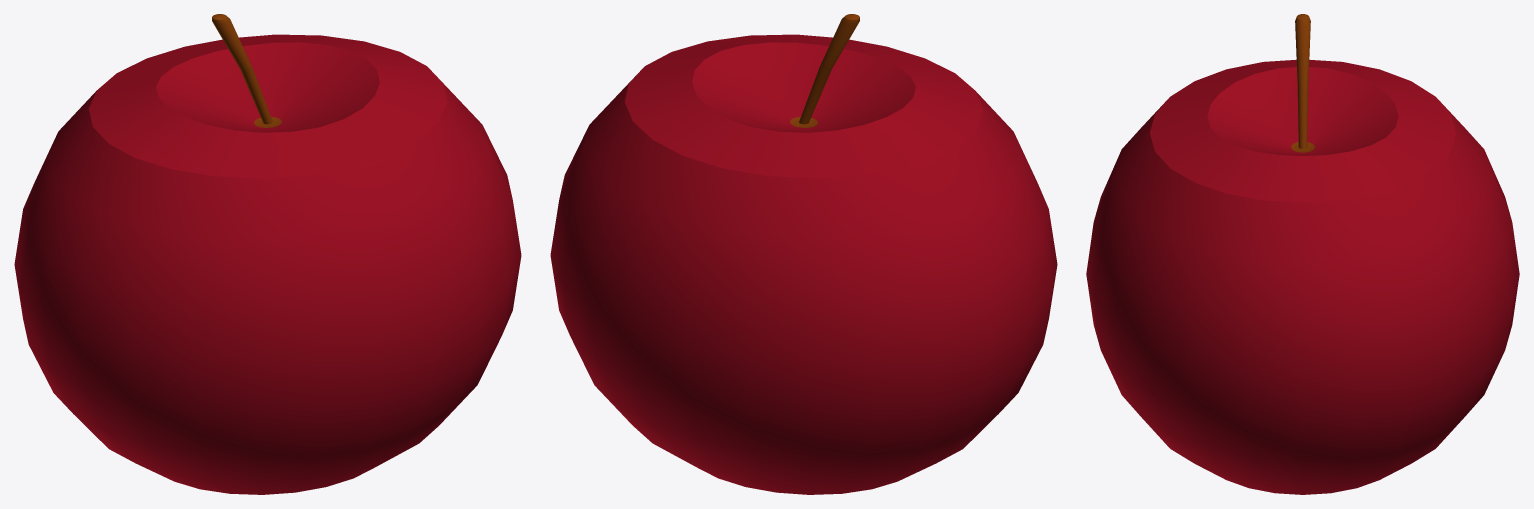
File: objectsdebouffe_1.fbx
3 renders of one model, left to right at view 1: azimuth 30°, elevation 25°; view 2: azimuth 150°, elevation 25°; view 3: azimuth 270°, elevation 25°, orthographic. The views are drawn at different scales.
Visible parts, largest first — view 1: objectsdebouffe_1; view 2: objectsdebouffe_1; view 3: objectsdebouffe_1.
Part boxes in pixels (bbox=[...]): objectsdebouffe_1: bbox=[14, 14, 521, 494]; objectsdebouffe_1: bbox=[550, 14, 1057, 494]; objectsdebouffe_1: bbox=[1086, 14, 1519, 494].
Size of the model in its own units: 31.46 by 29.43 by 28.41.
